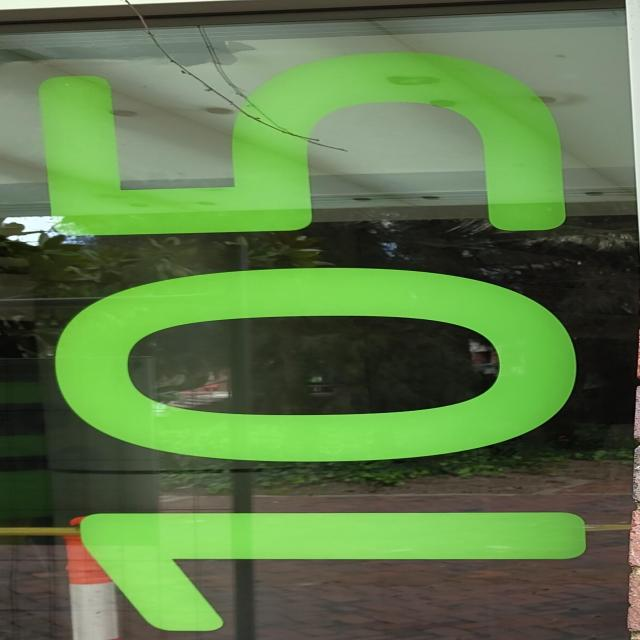character: (43, 264, 594, 468), (31, 47, 588, 241), (65, 506, 599, 640)
